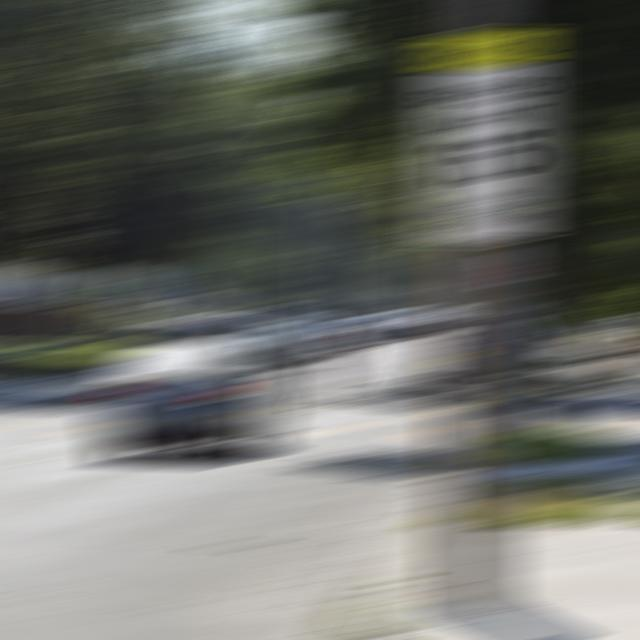speedLimit15: (427, 75, 540, 184)
